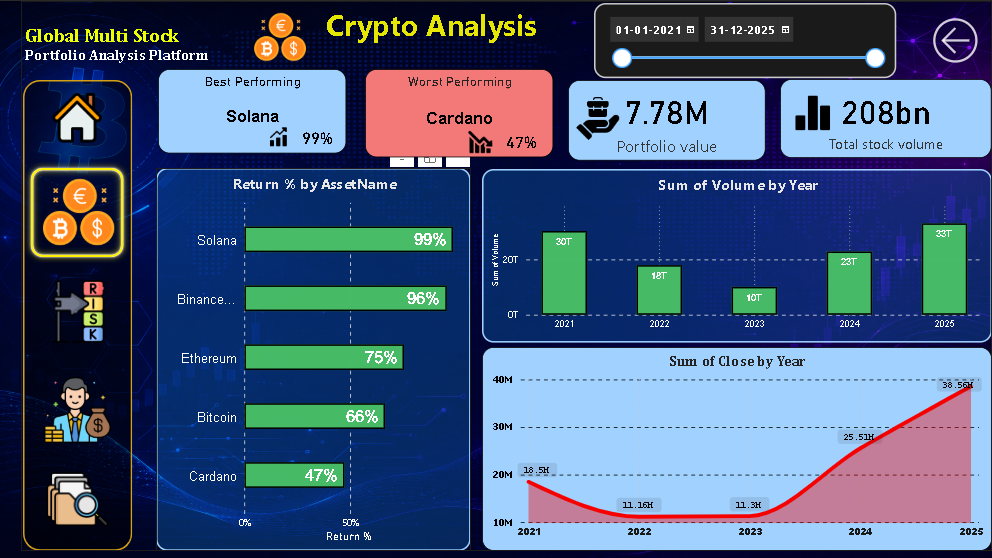

Layout of this report page (visuals, bound fields, positions):
{"tool":"powerbi","page":{"name":"Crypto Analysis","canvas":[1280,720],"ordinal":2},"visuals":[{"type":"shape","box":[29.9,101.5,140.9,607.6],"z":0,"group":"g5"},{"type":"textbox","box":[27.5,24.3,327.7,63.3],"z":1000,"group":"g5"},{"type":"card","title":"Best Performing","fields":{"Values":["measure.Best Performing stock"]},"box":[204.3,87.6,242.9,109.1],"z":1000,"group":"g1"},{"type":"image","box":[55.4,118.6,88.2,63.6],"z":2000,"group":"g5"},{"type":"card","title":"Worst Performing","fields":{"Values":["measure.Worst Performing stock"]},"box":[472,87.6,242.9,114.4],"z":3000,"group":"g2"},{"type":"actionButton","box":[29.3,108.4,141.7,104.1],"z":3000,"group":"g5"},{"type":"card","fields":{"Values":["measure.Portfolio value"]},"box":[733.2,102.2,254.7,103.8],"z":4000,"group":"g3"},{"type":"image","box":[46.7,360,108.4,81],"z":4000,"group":"g5"},{"type":"card","fields":{"Values":["measure.Best return %"]},"box":[370.7,150.6,77.9,52.1],"z":5000,"group":"g1"},{"type":"actionButton","box":[30.8,344.1,140.2,115.7],"z":5000,"group":"g5"},{"type":"card","fields":{"Values":["measure.Total stock volume"]},"box":[1007.4,100.6,272.5,102.2],"z":6000,"group":"g4"},{"type":"card","fields":{"Values":["measure.Worst return %"]},"box":[632,166.7,82.7,32.9],"z":6000,"group":"g2"},{"type":"image","box":[40.9,485.8,120,85.3],"z":6000,"group":"g5"},{"type":"actionButton","box":[30.8,467,141.7,114.2],"z":7000,"group":"g5"},{"type":"image","box":[55.4,602.9,88.2,81],"z":8000,"group":"g5"},{"type":"actionButton","box":[35.1,588.4,130.1,108.4],"z":9000,"group":"g5"},{"type":"textbox","box":[347.4,0,419.3,66.5],"z":10000,"group":"g5"},{"type":"barChart","fields":{"Category":["Fact_stock.AssetName"],"Y":["measure.Return %"]},"box":[201.4,215.4,406.3,494.5],"z":11000,"group":"g5"},{"type":"image","box":[46.7,225.5,109.9,92.5],"z":12000,"group":"g5"},{"type":"actionButton","box":[33.3,208.2,134.5,130.1],"z":13000,"group":"g5"},{"type":"image","box":[315.6,13,92.5,66.5],"z":14000,"group":"g5"},{"type":"group","id":"g1","title":"Group 2","box":[204.3,87.6,245,115.2],"z":15000,"group":"g5"},{"type":"group","id":"g2","title":"Group 1","box":[472,87.6,241.7,115.2],"z":16000,"group":"g5"},{"type":"lineChart","fields":{"Category":["Dim_date.Date.Variation.Date Hierarchy.Year"],"Y":["Sum(Fact_stock.Close)"]},"box":[622.1,446.7,657.8,263.1],"z":17000,"group":"g5"},{"type":"columnChart","fields":{"Y":["Sum(Fact_stock.Volume)"],"Category":["Dim_date.Date.Variation.Date Hierarchy.Year"]},"box":[622.1,216.9,657.8,224.1],"z":18000,"group":"g5"},{"type":"slicer","fields":{"Values":["Dim_date.Date"]},"box":[766.3,2.9,390.4,96.9],"z":19000,"group":"g5"},{"type":"group","id":"g3","title":"Group 3","box":[733.2,102.2,254.7,103.8],"z":20000,"group":"g5"},{"type":"group","id":"g4","title":"Group 4","box":[1007.4,100.6,272.5,102.2],"z":21000,"group":"g5"},{"type":"actionButton","box":[1193.9,8.1,77.9,86],"z":22000,"group":"g5"},{"type":"image","box":[741.7,102.2,59.4,99],"z":22000,"group":"g3"},{"type":"group","id":"g5","title":"Group 5","box":[27.5,0,1252,709.9],"z":22001},{"type":"image","box":[1023.8,110.3,50.9,66.5],"z":23000,"group":"g4"},{"type":"image","box":[332.5,161.8,55.2,28.4],"z":23000,"group":"g1"},{"type":"image","box":[593.7,166.6,55.2,31.3],"z":24000,"group":"g2"}]}

Visuals, with their boxes in screenshot pixels (x1, y1, x2, y2), scaled from the page's 1280x720 canvas onto the 992x558 screenshot:
shape: [23, 79, 132, 550]
textbox: [21, 19, 275, 68]
"Best Performing" card: [158, 68, 347, 152]
image: [43, 92, 111, 141]
"Worst Performing" card: [366, 68, 554, 157]
actionButton: [23, 84, 133, 165]
card - measure.Portfolio value: [568, 79, 766, 160]
image: [36, 279, 120, 342]
card - measure.Best return %: [287, 117, 348, 157]
actionButton: [24, 267, 133, 356]
card - measure.Total stock volume: [781, 78, 991, 157]
card - measure.Worst return %: [490, 129, 554, 155]
image: [32, 376, 125, 443]
actionButton: [24, 362, 134, 450]
image: [43, 467, 111, 530]
actionButton: [27, 456, 128, 540]
textbox: [269, 0, 594, 52]
barChart - Fact_stock.AssetName x measure.Return %: [156, 167, 471, 550]
image: [36, 175, 121, 246]
actionButton: [26, 161, 130, 262]
image: [245, 10, 316, 62]
"Group 2" group: [158, 68, 348, 157]
"Group 1" group: [366, 68, 553, 157]
lineChart - Dim_date.Date.Variation.Date Hierarchy.Year x Sum(Fact_stock.Close): [482, 346, 991, 550]
columnChart - Sum(Fact_stock.Volume) x Dim_date.Date.Variation.Date Hierarchy.Year: [482, 168, 991, 342]
slicer - Dim_date.Date: [594, 2, 896, 77]
"Group 3" group: [568, 79, 766, 160]
"Group 4" group: [781, 78, 991, 157]
actionButton: [925, 6, 986, 73]
image: [575, 79, 621, 156]
"Group 5" group: [21, 0, 991, 550]
image: [793, 85, 833, 137]
image: [258, 125, 300, 147]
image: [460, 129, 503, 153]
